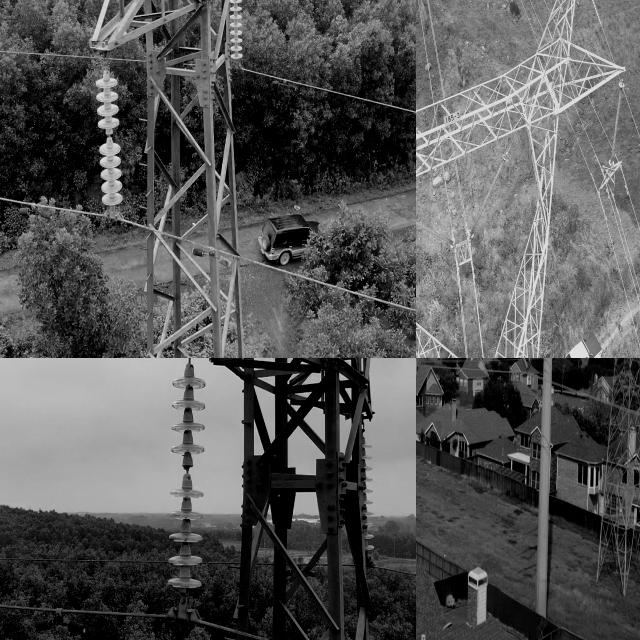杆塔: (416, 0, 624, 358), (84, 0, 263, 358), (176, 358, 382, 640), (590, 358, 640, 601)
正常电缆: (0, 188, 416, 319), (0, 41, 416, 130), (0, 595, 179, 623)
正常绝缘子: (159, 358, 215, 596), (90, 61, 125, 223), (608, 75, 625, 171), (226, 0, 247, 71), (517, 358, 537, 390), (519, 358, 535, 383)
绝缘子破损: (181, 460, 194, 484), (105, 129, 113, 143)
